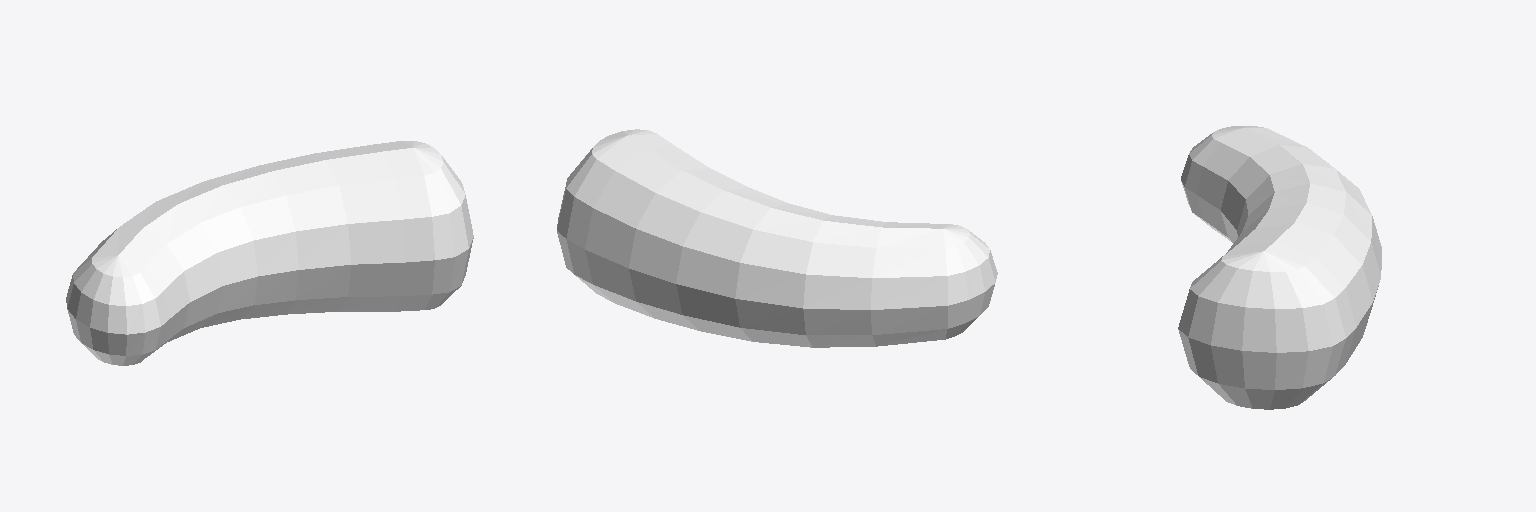
File: pickle.obj
3 views of the same model, side by side, from view 1: azimuth 30°, elevation 25°; view 2: azimuth 150°, elevation 25°; view 3: azimuth 270°, elevation 25° (orthographic).
Parts seen in each view (by area): view 1: pickle; view 2: pickle; view 3: pickle.
Boxes of the visible parts, <box> form: pickle: <box>66,141,473,365</box>; pickle: <box>557,129,997,347</box>; pickle: <box>1178,126,1381,409</box>.
Bounding box in the file's own units: 25.46 × 9.52 × 11.32.